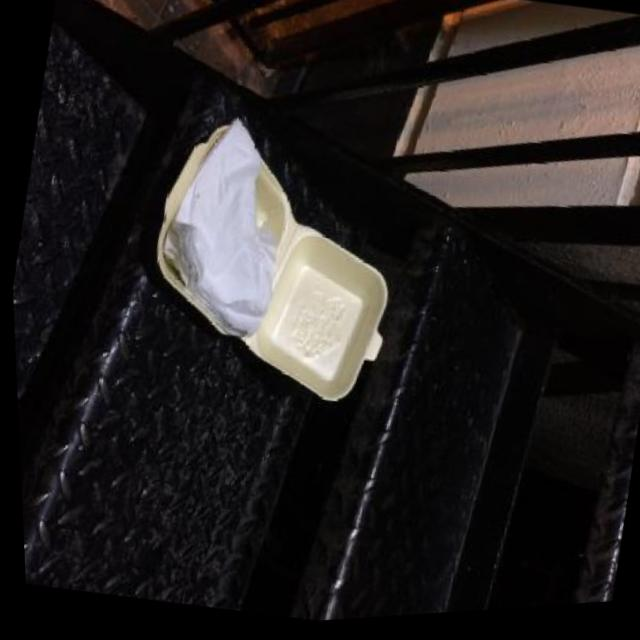foam: (129, 104, 420, 417)
paper: (143, 102, 308, 348)
